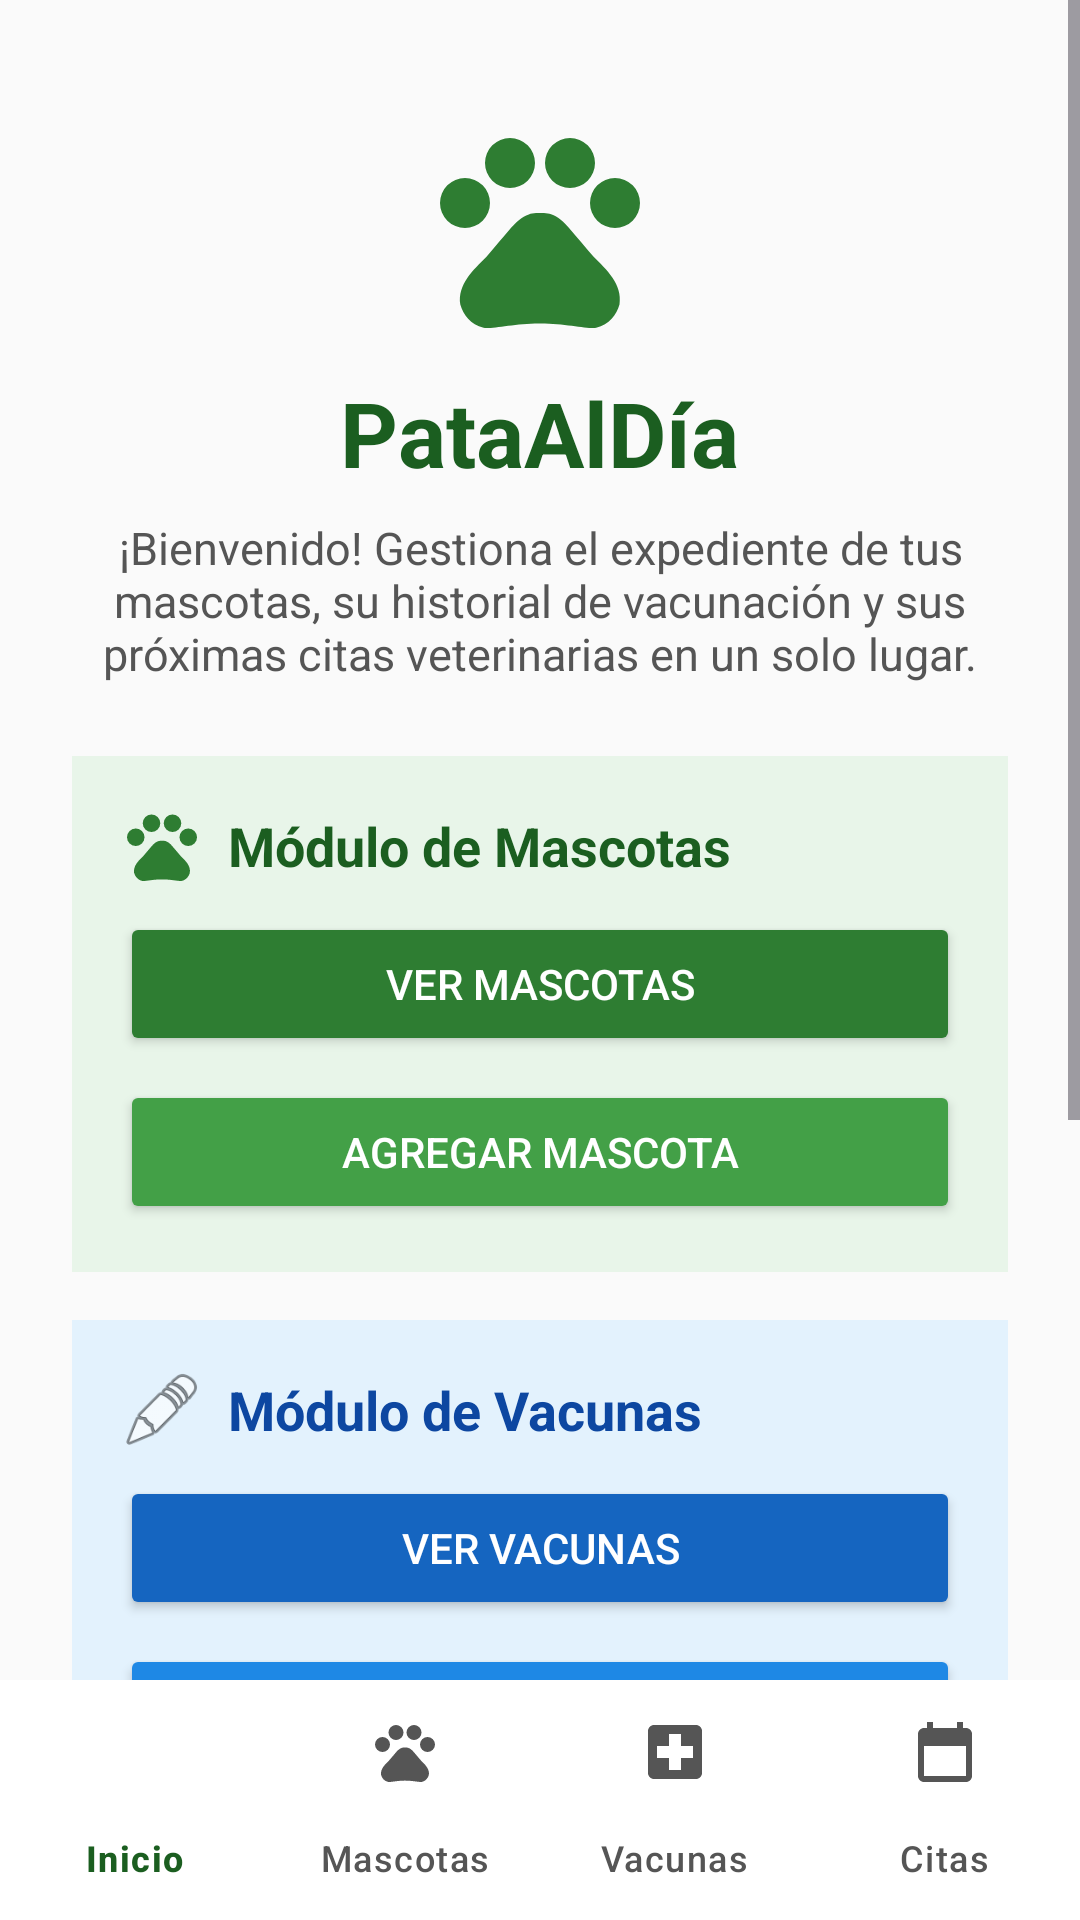

Screen size 1080×1920. Icon name, then its center in pixels as [x,y]:
Icono Mascotas: [162,847]
